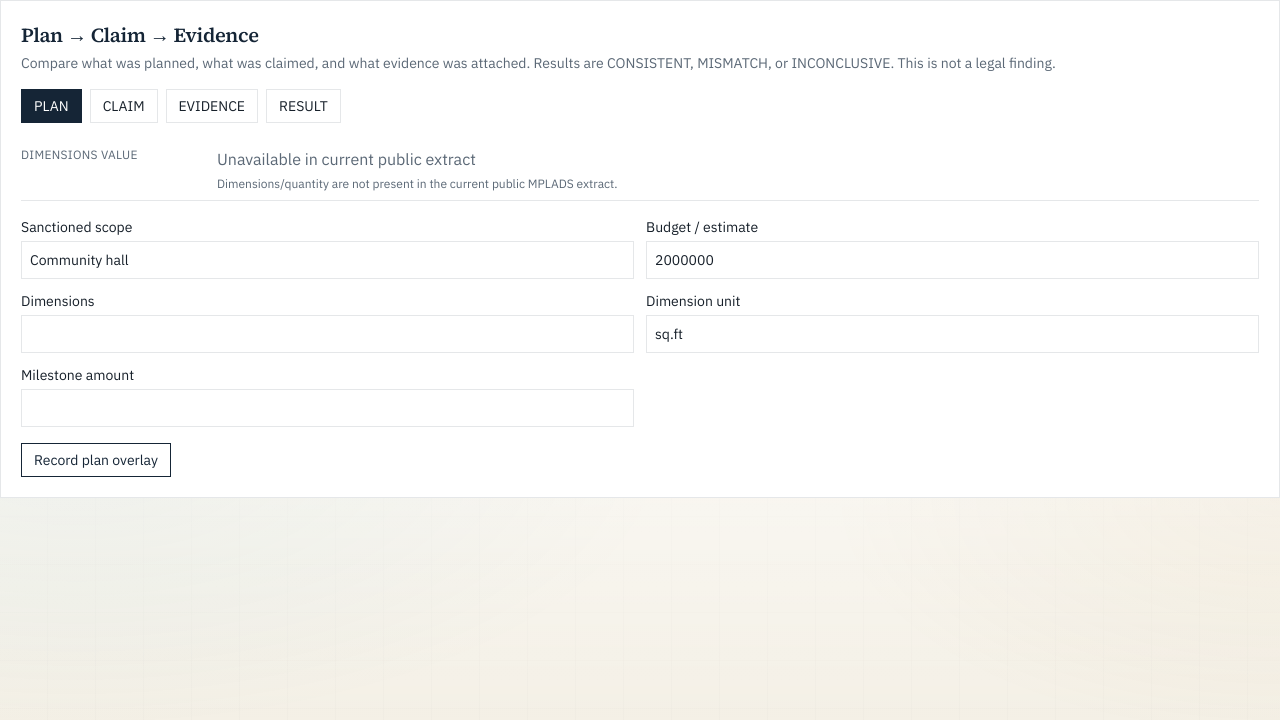
it: PlanClaimEvidencePanel tabs › renders PLAN CLAIM EVIDENCE RESULT controls
Expected: the button "PLAN" is shown, left=21, top=89, right=82, bottom=123
Expected: the button "EVIDENCE" is shown, left=166, top=89, right=258, bottom=123
Click the button "CLAIM": point(124, 106) left=90, top=89, right=158, bottom=123
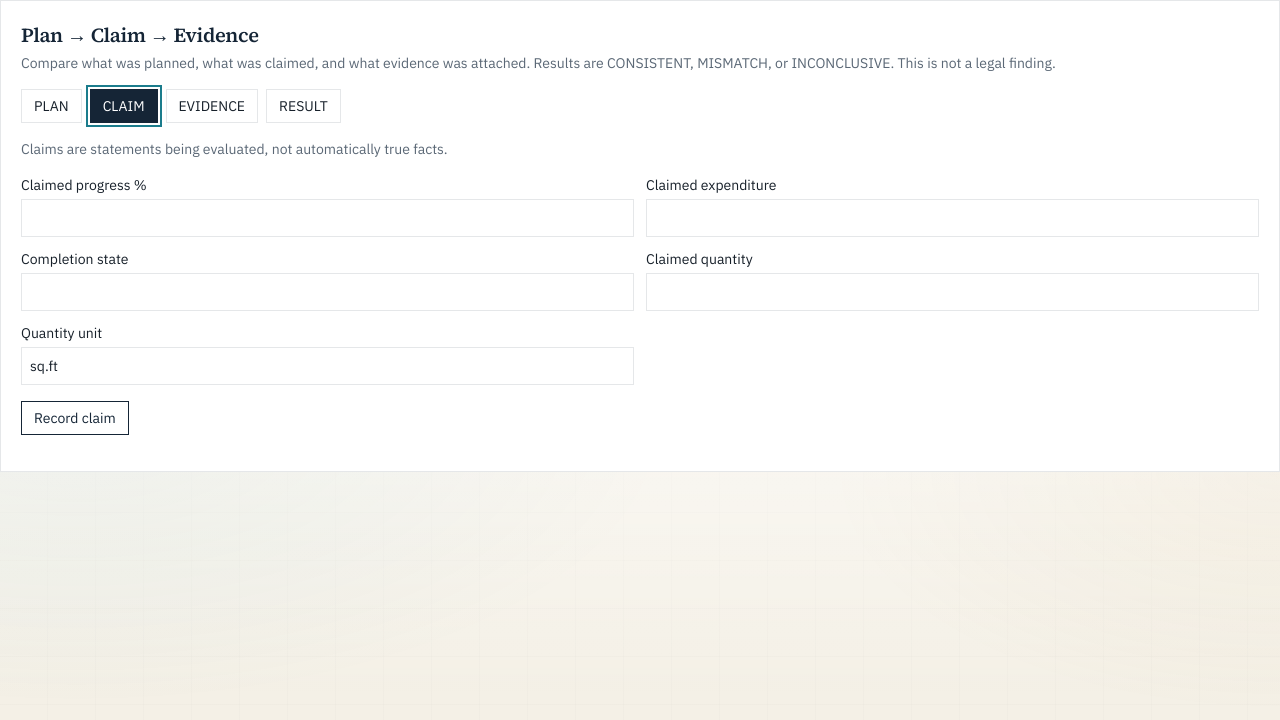
Now the text "statements being evaluated" is shown, box left=21, top=140, right=448, bottom=158
